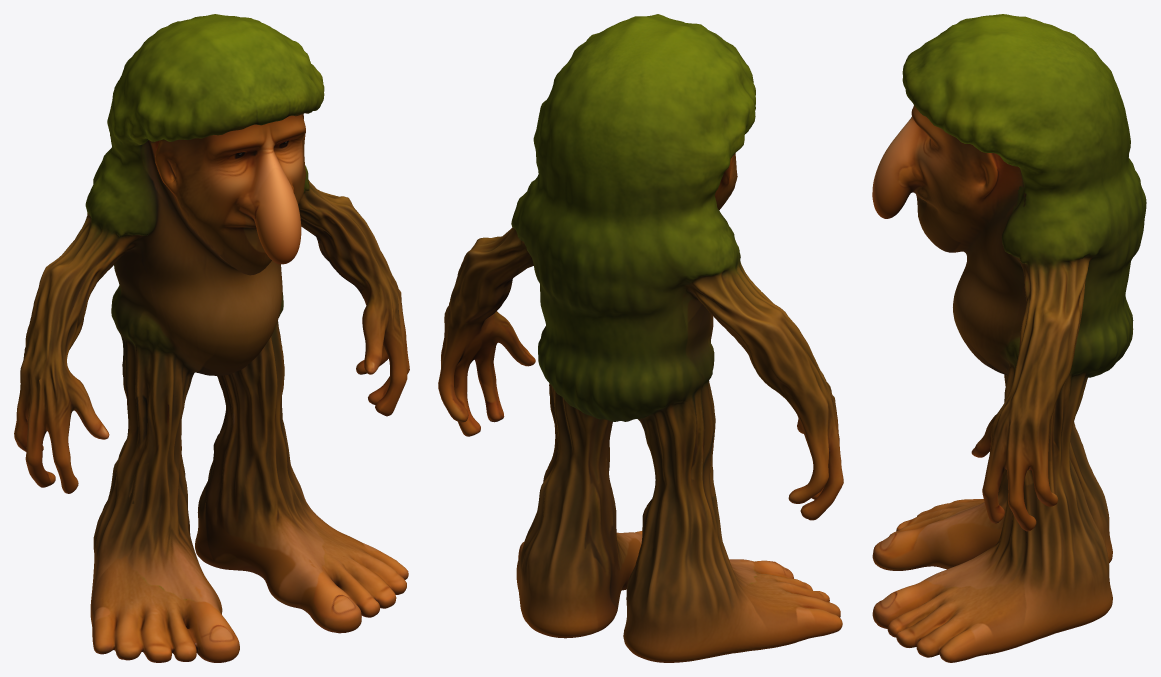
File: brr.glb
The picture shows the model from 3 angles, left to right: view 1: azimuth 30°, elevation 25°; view 2: azimuth 150°, elevation 25°; view 3: azimuth 270°, elevation 25°; orthographic projection. The views are drawn at different scales.
Parts seen in each view (by area): view 1: model.005; view 2: model.005; view 3: model.005.
Boxes of the visible parts, box(x1,y1,x2,y2) form: model.005: box(14, 14, 409, 662); model.005: box(438, 14, 843, 662); model.005: box(872, 14, 1146, 662).
Size of the model in its own units: 12.42 by 17.9 by 7.8.
1 material, 1 textured.
